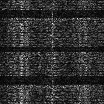wifi: (1, 16, 104, 46), (1, 51, 104, 76), (1, 84, 104, 104), (1, 1, 104, 9)
